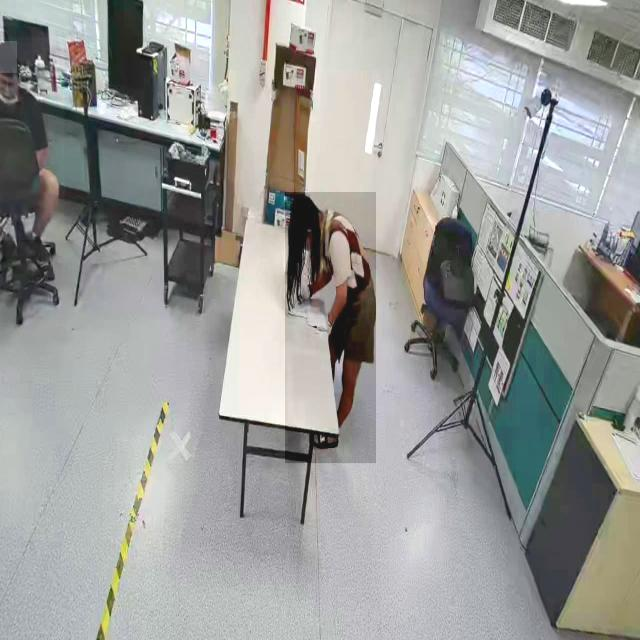head_nohelmet: (290, 194, 311, 225), (0, 41, 18, 74)
person: (285, 192, 377, 464), (0, 37, 65, 241)
